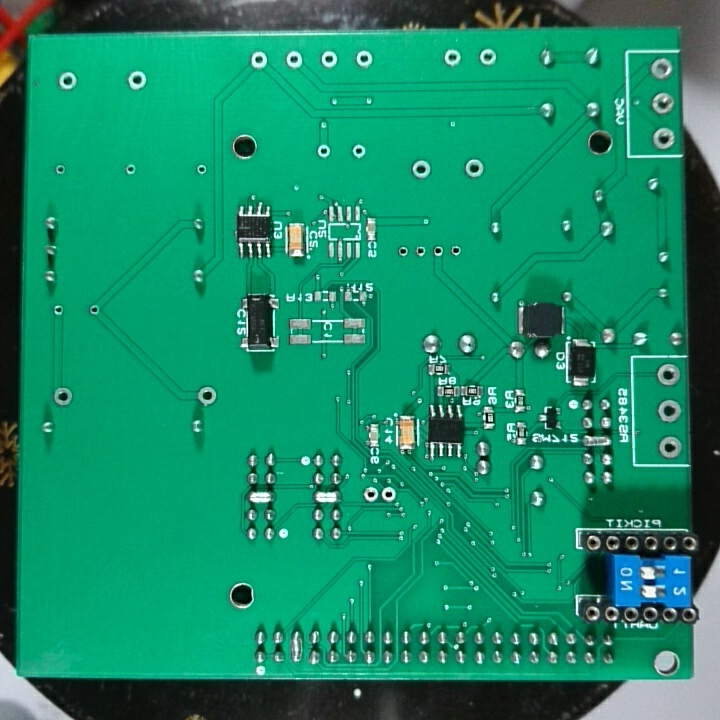F: (650, 121, 679, 152), (654, 360, 682, 389), (654, 396, 684, 423), (648, 55, 676, 83), (656, 434, 684, 461), (649, 89, 677, 116), (124, 67, 150, 93), (49, 383, 76, 408), (409, 158, 436, 183), (353, 46, 377, 74), (247, 49, 272, 74), (57, 69, 81, 94), (196, 383, 219, 409), (463, 156, 485, 183), (440, 46, 464, 70), (283, 47, 306, 72), (476, 46, 498, 69), (319, 49, 341, 71), (379, 483, 397, 509), (429, 240, 447, 263), (316, 141, 335, 161), (361, 483, 379, 504), (51, 300, 69, 321), (84, 301, 102, 320), (350, 140, 367, 160), (447, 241, 464, 261), (123, 162, 139, 180), (413, 242, 429, 260), (193, 161, 210, 177), (395, 243, 411, 260), (52, 163, 70, 178)
P: (289, 626, 306, 668), (580, 432, 616, 450), (244, 489, 278, 506), (313, 486, 343, 505)
